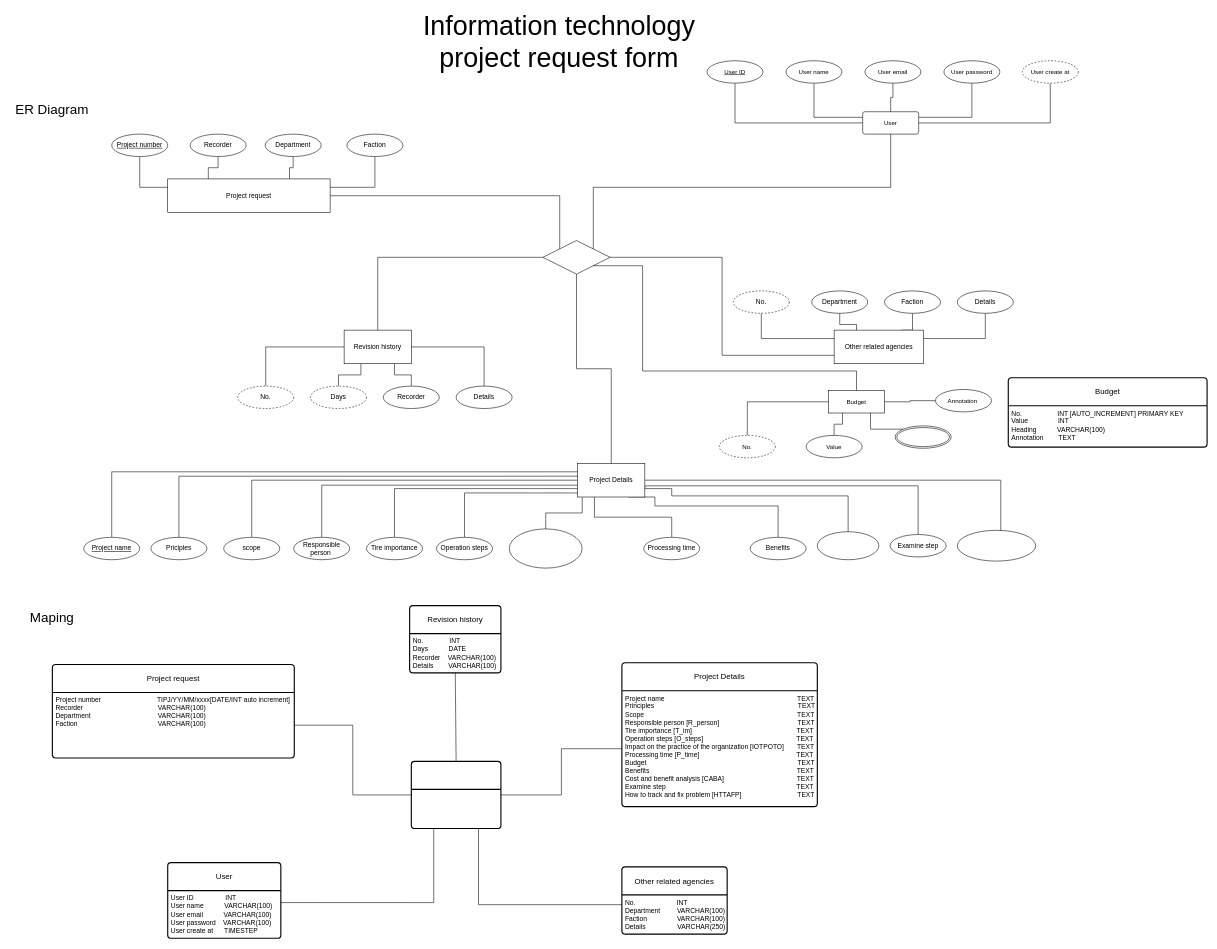
The diagram is 1217 pixels wide and 949 high, and some of its shapes have lost their labels. The shapes that lost their labels are listed below. From the top down, each one's centre as x and y in pixels, then its label:
(576,257): System
(923,436): Heading
(545,548): Impact on the practice of the organization
(848,545): Cost and benefit analysis
(996,545): How to track and fix problem
(455,794): Systems
